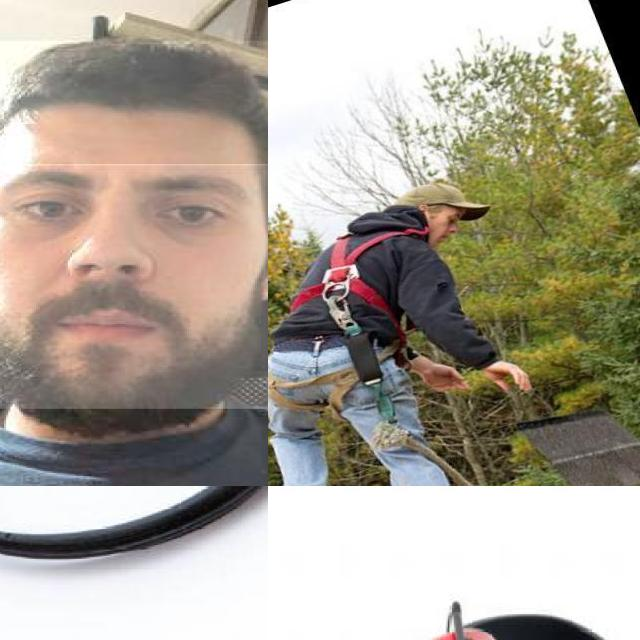Ear-protection: (0, 486, 268, 578)
Harness: (292, 228, 430, 386)
No_Glasses: (0, 158, 268, 259)
face_nomask: (0, 164, 268, 409)
head_nohelmet: (0, 40, 268, 167)
person: (0, 10, 268, 486)
